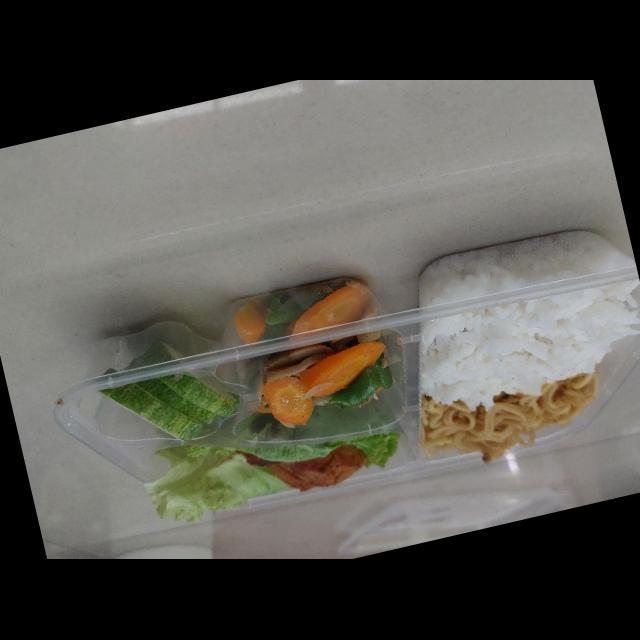bento: (32, 213, 640, 534)
